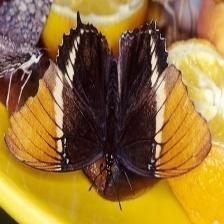butterfly: (7, 15, 212, 178)
